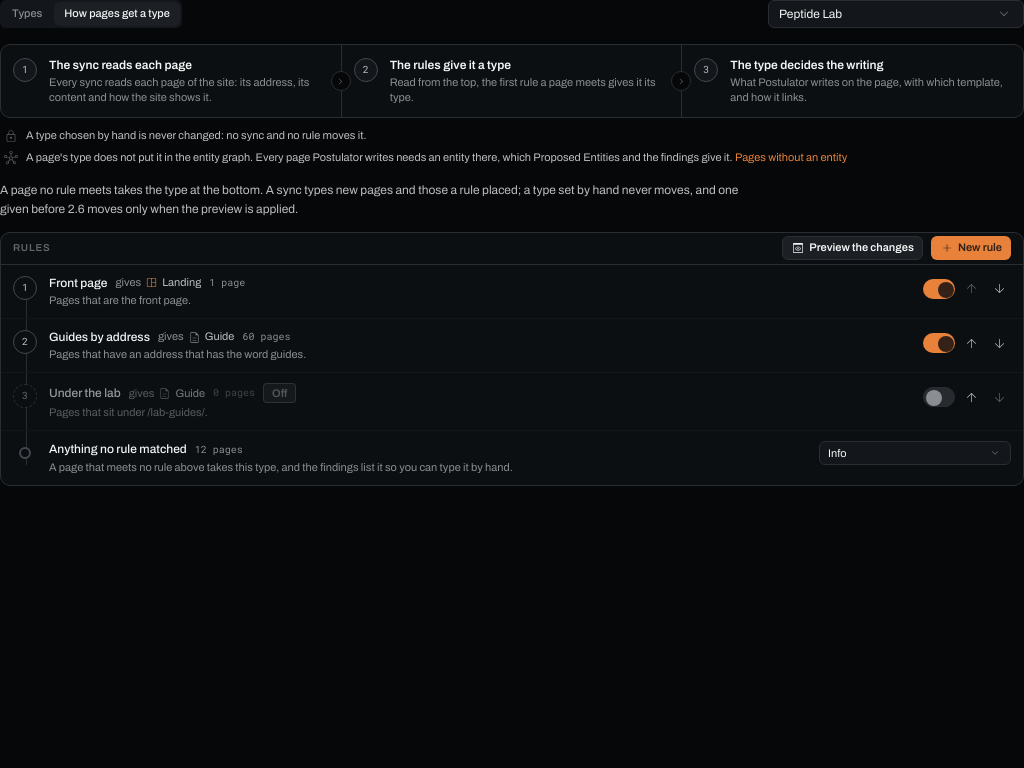
Test: the classification preview › lists what would change by group, with each rule's count and what a group needs first
Step 1. Click the button "Preview the changes" → (853, 248), box [782, 236, 923, 260]
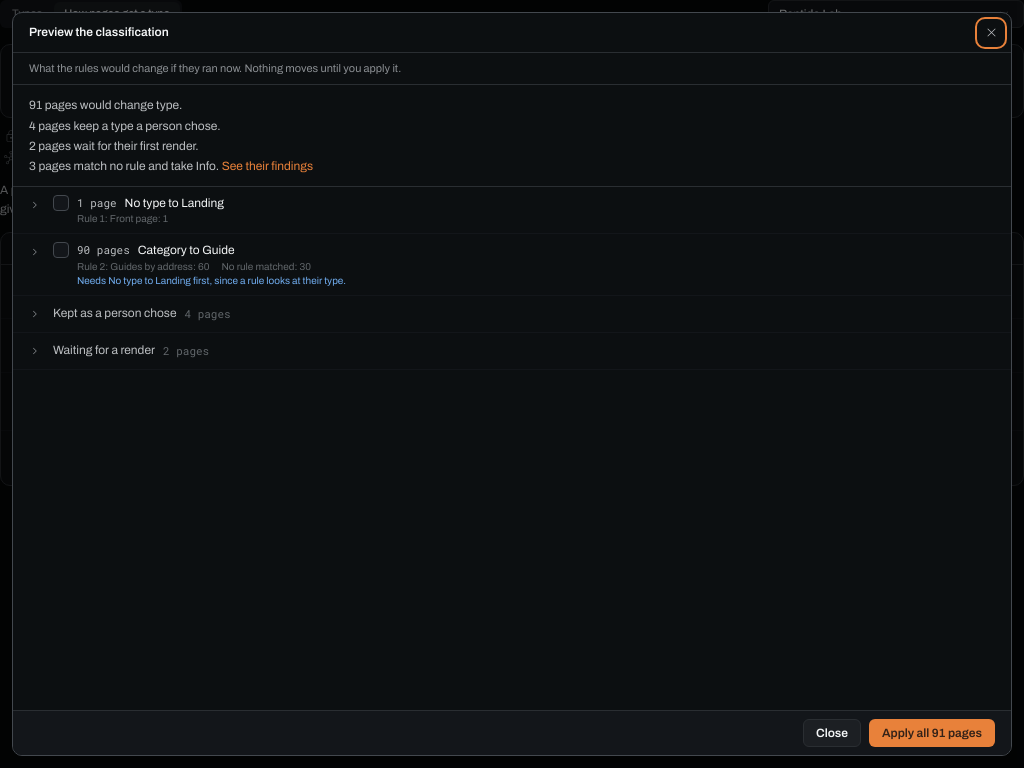
Step 2. Click the button named "Show the pages of Category to Guide" → (35, 252), box [25, 242, 45, 262]
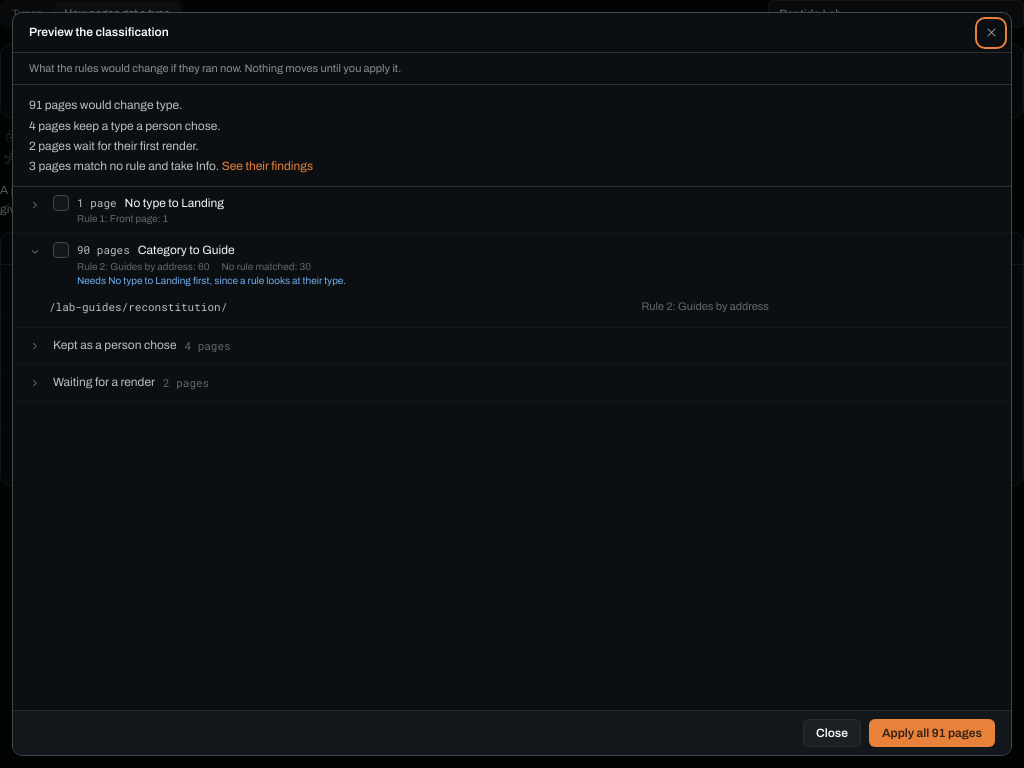
Now the text "/lab-guides/reconstitution/" is shown, box [49, 299, 227, 314]
